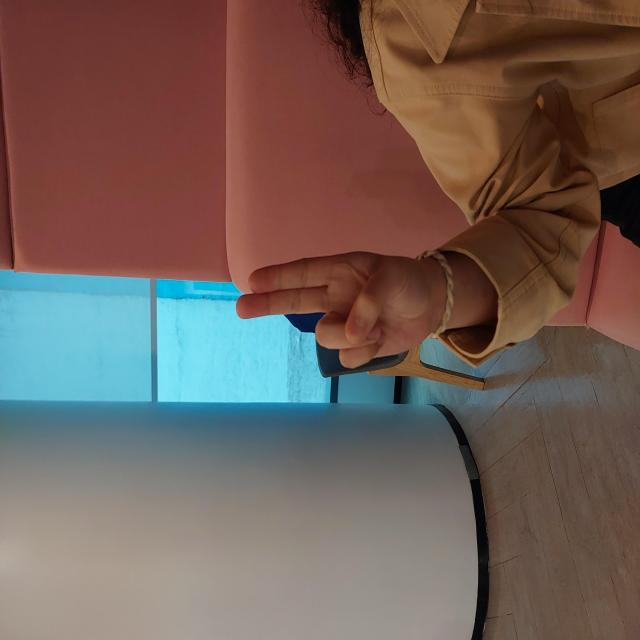U: (268, 231, 394, 441)
